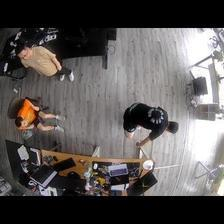fall: (121, 102, 181, 146)
normal: (14, 43, 75, 82), (14, 98, 66, 134)
